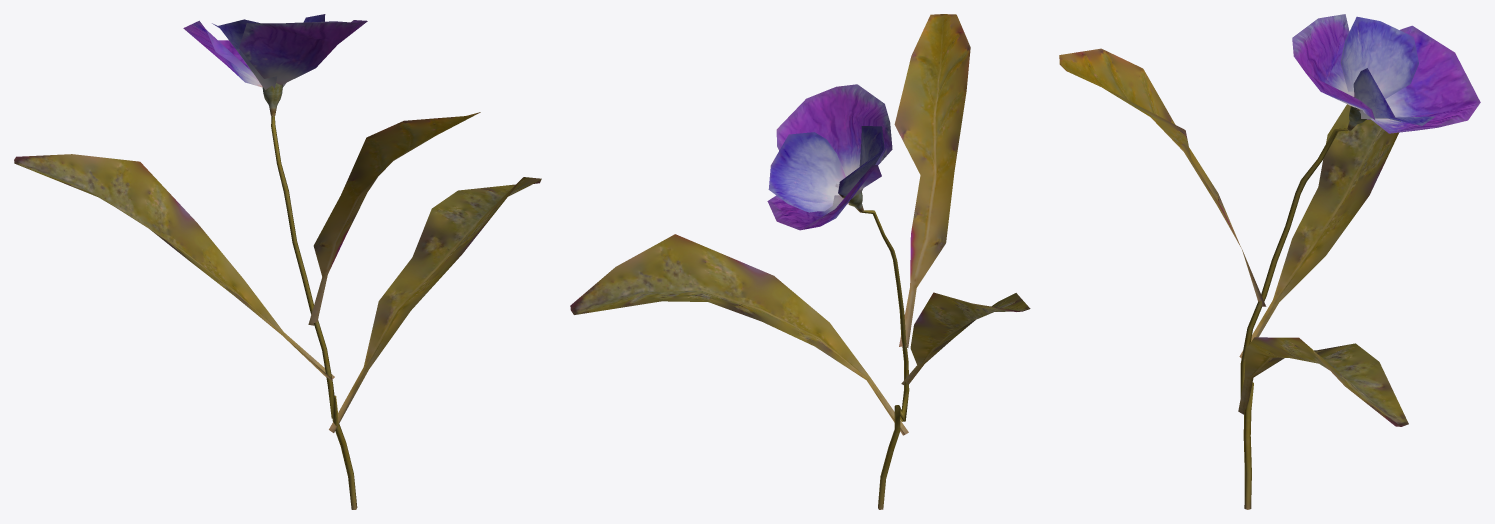
Rendered from Poppy_baby_short_purple.glb.
The picture shows the model from 3 angles, left to right: view 1: azimuth 30°, elevation 25°; view 2: azimuth 150°, elevation 25°; view 3: azimuth 270°, elevation 25°; orthographic projection. The views are drawn at different scales.
Visible parts, largest first — view 1: baby poppy; view 2: baby poppy; view 3: baby poppy.
Boxes of the visible parts, x1,y1,x2,y2 form: baby poppy: (14,14,541,509); baby poppy: (570,14,1030,509); baby poppy: (1059,14,1480,509).
Size of the model in its own units: 1.32 by 1.17 by 0.9442.
1 material, 1 textured.
